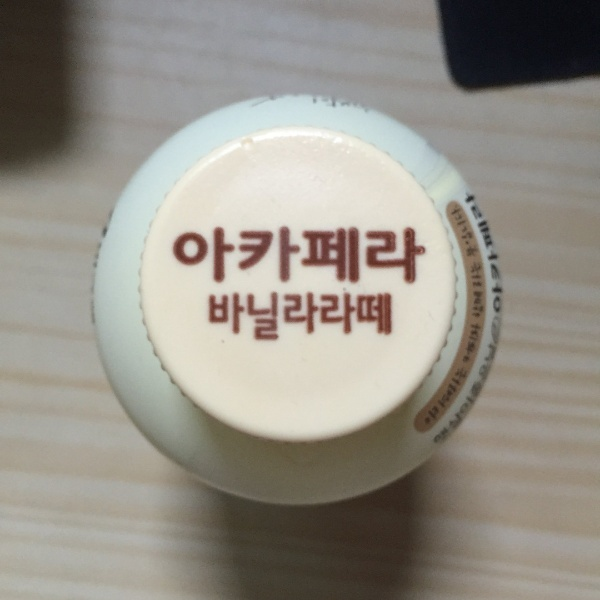text: (449, 323, 464, 451), (465, 323, 480, 451), (481, 323, 496, 451), (497, 323, 512, 451), (434, 323, 448, 451), (481, 189, 497, 254), (465, 201, 480, 263), (177, 227, 192, 285), (193, 227, 208, 285), (209, 227, 224, 285), (225, 227, 240, 285), (241, 227, 256, 285), (257, 227, 272, 285), (273, 227, 288, 285), (289, 227, 304, 285), (305, 227, 320, 285), (321, 227, 336, 285), (337, 227, 352, 285), (353, 227, 368, 285), (369, 227, 384, 285), (385, 227, 400, 285), (401, 227, 416, 285), (209, 292, 224, 345), (225, 292, 240, 345), (241, 292, 256, 345), (257, 292, 272, 345), (273, 292, 288, 345), (289, 292, 304, 345), (305, 292, 320, 345), (321, 292, 336, 345), (337, 292, 352, 345), (353, 292, 368, 345), (369, 292, 384, 345), (449, 364, 464, 417), (465, 321, 480, 372), (486, 250, 496, 319), (435, 364, 448, 417), (469, 262, 480, 324), (513, 323, 518, 451), (417, 227, 428, 285), (497, 250, 506, 319), (385, 292, 393, 345), (481, 262, 487, 324), (433, 400, 443, 433), (475, 189, 480, 254), (423, 400, 432, 433), (171, 227, 176, 285), (465, 364, 469, 417), (481, 321, 484, 372), (462, 201, 464, 263), (481, 201, 483, 263), (462, 321, 464, 372)
